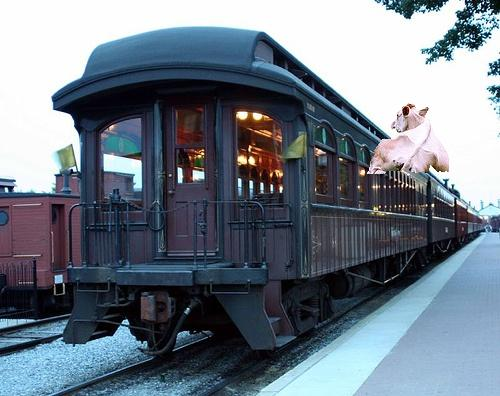tampered: (361, 104, 449, 174)
